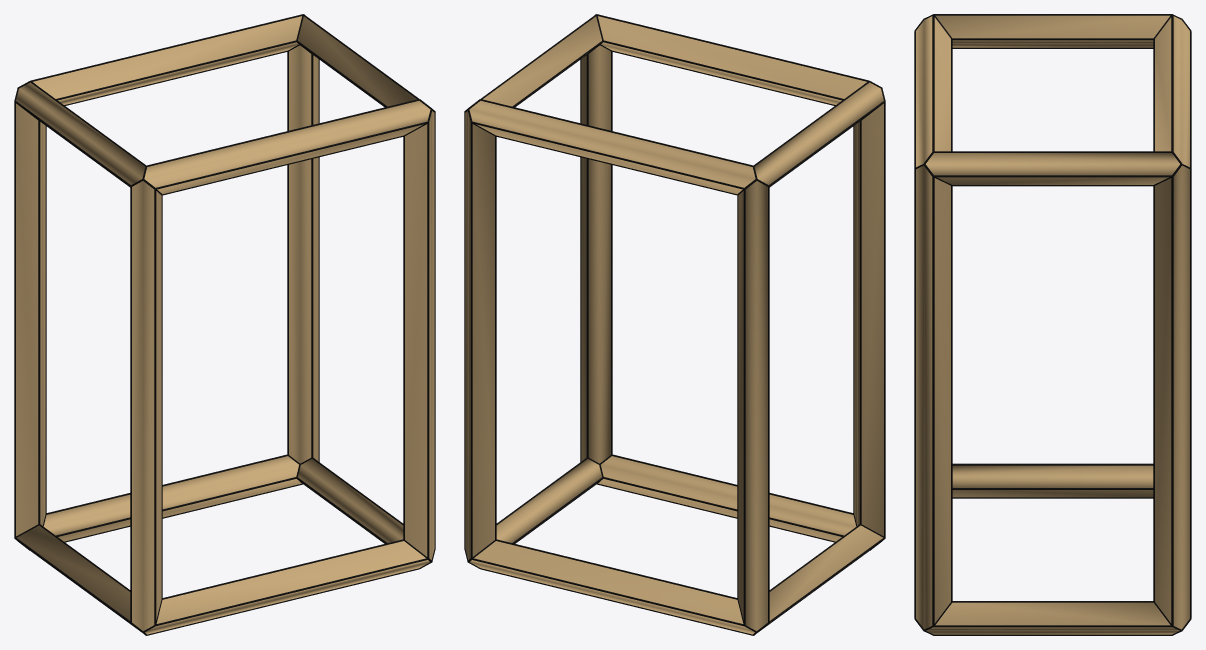
The model's file is servante-grande.glb.
3 views of the same model, side by side, from view 1: azimuth 30°, elevation 25°; view 2: azimuth 150°, elevation 25°; view 3: azimuth 270°, elevation 25° (orthographic). The views are drawn at different scales.
Parts seen in each view (by area): view 1: arete-Z0, arete-Z1, arete-Z2, arete-Z3, arete-X2, arete-X0, arete-X3, arete-X1, arete-Y2, arete-wire-Z0, arete-Y0, arete-Y3 (+12 smaller); view 2: arete-Z2, arete-Z3, arete-Z0, arete-Z1, arete-X3, arete-X1, arete-X2, arete-X0, arete-Y2, arete-Y0, arete-wire-Z2, arete-Y3 (+12 smaller); view 3: arete-Z1, arete-Z3, arete-Y3, arete-Y1, arete-Y2, arete-Y0, arete-X2, arete-X3, arete-wire-Z1, arete-wire-Z3, arete-wire-Y1, arete-wire-Y3 (+4 smaller).
Boxes of the visible parts, left/top/right/bottom form: arete-Z0: left=132, top=181, right=161, bottom=630; arete-Z1: left=405, top=111, right=434, bottom=559; arete-Z2: left=16, top=103, right=45, bottom=536; arete-Z3: left=289, top=45, right=318, bottom=463; arete-X2: left=144, top=101, right=430, bottom=194; arete-X0: left=145, top=541, right=429, bottom=634; arete-X3: left=33, top=16, right=301, bottom=104; arete-X1: left=43, top=456, right=301, bottom=541; arete-Y2: left=16, top=82, right=145, bottom=184; arete-wire-Z0: left=130, top=179, right=162, bottom=625; arete-Y0: left=17, top=525, right=130, bottom=620; arete-Y3: left=298, top=16, right=416, bottom=106; arete-Z2: left=738, top=181, right=767, bottom=630; arete-Z3: left=465, top=111, right=494, bottom=559; arete-Z0: left=854, top=103, right=883, bottom=536; arete-Z1: left=581, top=45, right=610, bottom=463; arete-X3: left=469, top=101, right=755, bottom=194; arete-X1: left=470, top=541, right=754, bottom=634; arete-X2: left=598, top=16, right=866, bottom=104; arete-X0: left=598, top=456, right=856, bottom=541; arete-Y2: left=754, top=82, right=883, bottom=184; arete-Y0: left=769, top=525, right=882, bottom=620; arete-wire-Z2: left=737, top=179, right=769, bottom=625; arete-Y3: left=483, top=16, right=601, bottom=106; arete-Z1: left=916, top=165, right=950, bottom=629; arete-Z3: left=1155, top=165, right=1189, bottom=629; arete-Y3: left=926, top=153, right=1179, bottom=184; arete-Y1: left=926, top=602, right=1179, bottom=634; arete-Y2: left=935, top=15, right=1170, bottom=47; arete-Y0: left=952, top=465, right=1153, bottom=497; arete-X2: left=916, top=16, right=950, bottom=167; arete-X3: left=1155, top=16, right=1189, bottom=167; arete-wire-Z1: left=914, top=164, right=952, bottom=626; arete-wire-Z3: left=1153, top=169, right=1191, bottom=626; arete-wire-Y1: left=924, top=601, right=1181, bottom=635; arete-wire-Y3: left=933, top=151, right=1181, bottom=186.
Size of the model in its own units: 0.4238 by 0.6238 by 0.3238.
